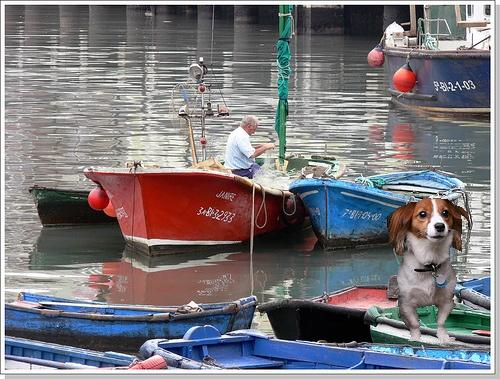tampered: (388, 199, 470, 341)
